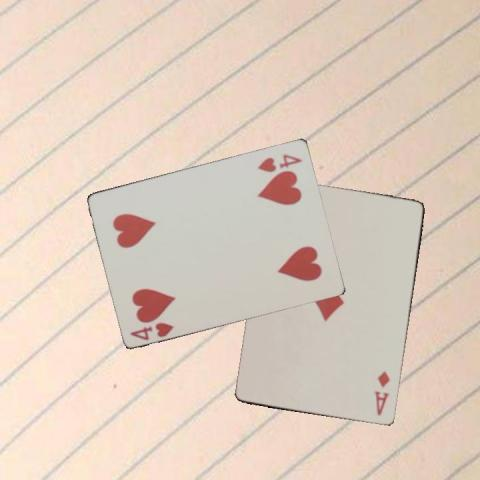4h: (127, 319, 175, 341), (255, 151, 303, 172)
Ad: (372, 368, 391, 418)
